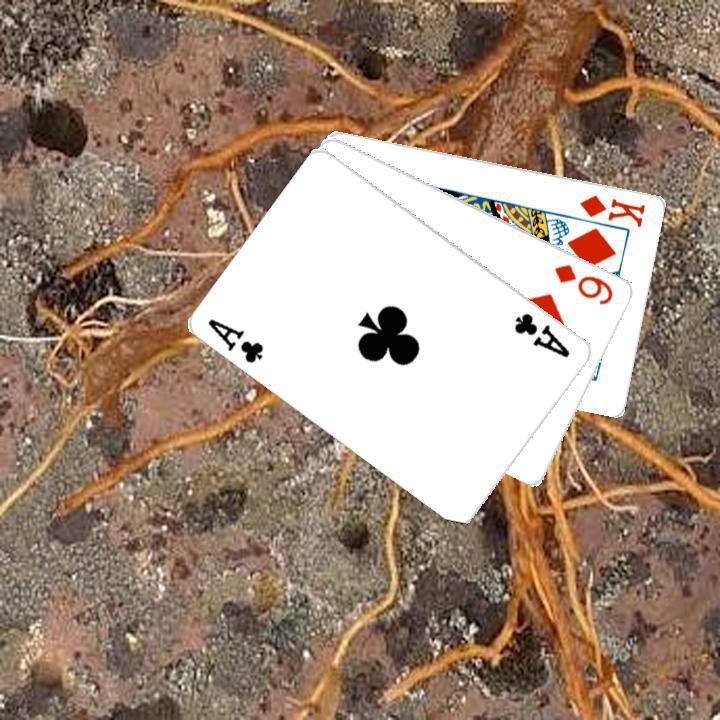6: (550, 259, 616, 307)
A: (510, 308, 573, 360), (204, 314, 267, 366)
K: (575, 190, 648, 229)
